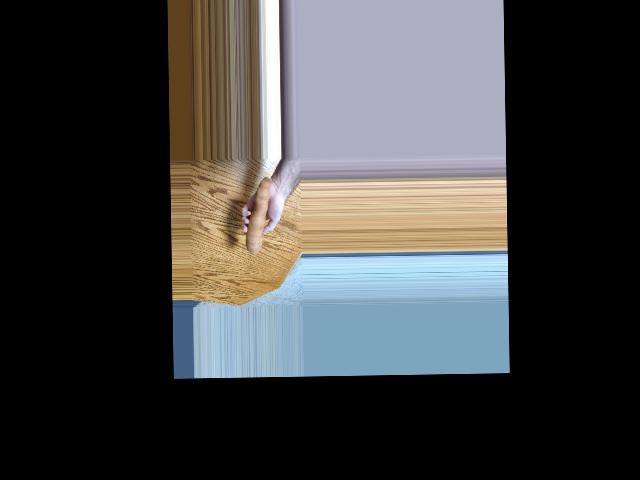sweet_potato: (240, 181, 275, 258)
